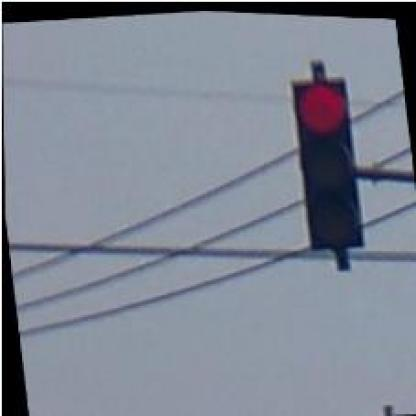red: (285, 69, 367, 250)
